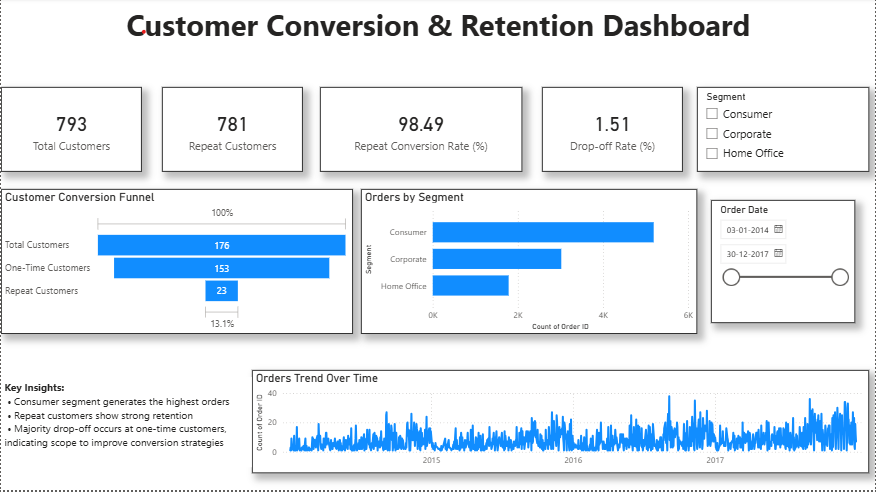

The dashboard page shown, as its layout file describes it:
{"tool":"powerbi","page":{"name":"Page 1","canvas":[1280,720],"ordinal":0},"visuals":[{"type":"funnel","title":"Customer Conversion Funnel","fields":{"Y":["E_com data.Total Customers","E_com data.One-Time Customers","E_com data.Repeat Customers"]},"box":[0,279.5,515.1,212.2],"z":0},{"type":"card","fields":{"Values":["E_com data.Total Customers"]},"box":[0,130.2,206.3,124.4],"z":1},{"type":"card","fields":{"Values":["E_com data.Repeat Customers"]},"box":[235.6,130.2,206.3,124.4],"z":2},{"type":"card","fields":{"Values":["E_com data.Repeat Conversion Rate (%)"]},"box":[466.8,130.2,295.6,124.4],"z":3},{"type":"card","fields":{"Values":["E_com data.Drop-off Rate (%)"]},"box":[791.7,130.2,206.3,124.4],"z":4},{"type":"clusteredBarChart","title":"Orders by Segment","fields":{"Y":["CountNonNull(E_com data.Order ID)"],"Category":["E_com data.Segment"]},"box":[526.8,279.5,491.7,212.2],"z":5},{"type":"lineChart","title":"Orders Trend Over Time","fields":{"Category":["E_com data.Order Date.Variation.Date Hierarchy.Year","E_com data.Order Date.Variation.Date Hierarchy.Quarter","E_com data.Order Date.Variation.Date Hierarchy.Month","E_com data.Order Date.Variation.Date Hierarchy.Day"],"Y":["CountNonNull(E_com data.Order ID)"]},"box":[367.3,544.4,902.9,150.7],"z":6},{"type":"slicer","fields":{"Values":["E_com data.Segment"]},"box":[1018.5,130.2,251.7,124.4],"z":7},{"type":"slicer","fields":{"Values":["E_com data.Order Date"]},"box":[1039,295.6,210.7,180],"z":8},{"type":"actionButton","box":[0,0,100,40],"z":9},{"type":"textbox","box":[0,4.4,1280.5,89.3],"z":10},{"type":"textbox","box":[0,554.6,367.3,131.7],"z":11}]}

Visuals, with their boxes in screenshot pixels (x1, y1, x2, y2), scaled from the page's 1280x720 canvas onto the 876x492 screenshot:
"Customer Conversion Funnel" funnel: [0,191,353,336]
card - E_com data.Total Customers: [0,89,141,174]
card - E_com data.Repeat Customers: [161,89,302,174]
card - E_com data.Repeat Conversion Rate (%): [319,89,522,174]
card - E_com data.Drop-off Rate (%): [542,89,683,174]
"Orders by Segment" clusteredBarChart: [361,191,697,336]
"Orders Trend Over Time" lineChart: [251,372,869,475]
slicer - E_com data.Segment: [697,89,869,174]
slicer - E_com data.Order Date: [711,202,855,325]
actionButton: [0,0,68,27]
textbox: [0,3,875,64]
textbox: [0,379,251,469]
